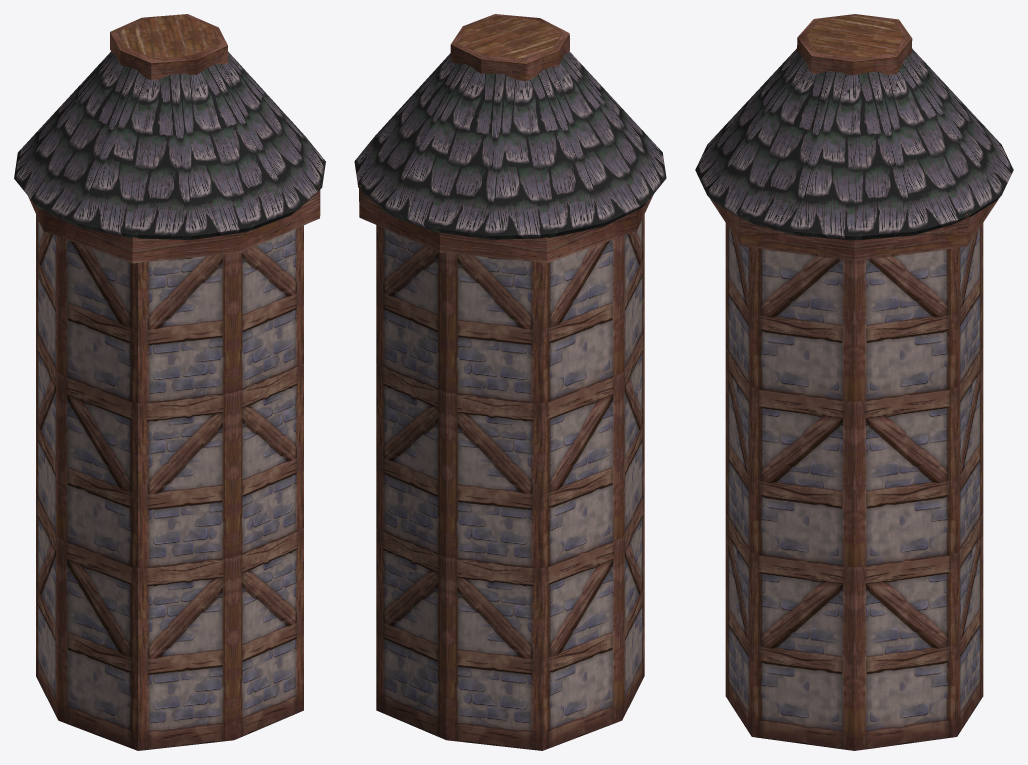
Rendered from tower_cilinder.fbx.
3 views of the same model, side by side, from view 1: azimuth 30°, elevation 25°; view 2: azimuth 150°, elevation 25°; view 3: azimuth 270°, elevation 25° (orthographic).
Parts seen in each view (by area): view 1: tower_cilinder; view 2: tower_cilinder; view 3: tower_cilinder.
Part boxes in pixels (box(x1,y1,x2,y2)): tower_cilinder: box(14, 14, 325, 750); tower_cilinder: box(354, 14, 666, 750); tower_cilinder: box(695, 14, 1013, 750).
Bounding box in the file's own units: 240 × 553 × 242.
